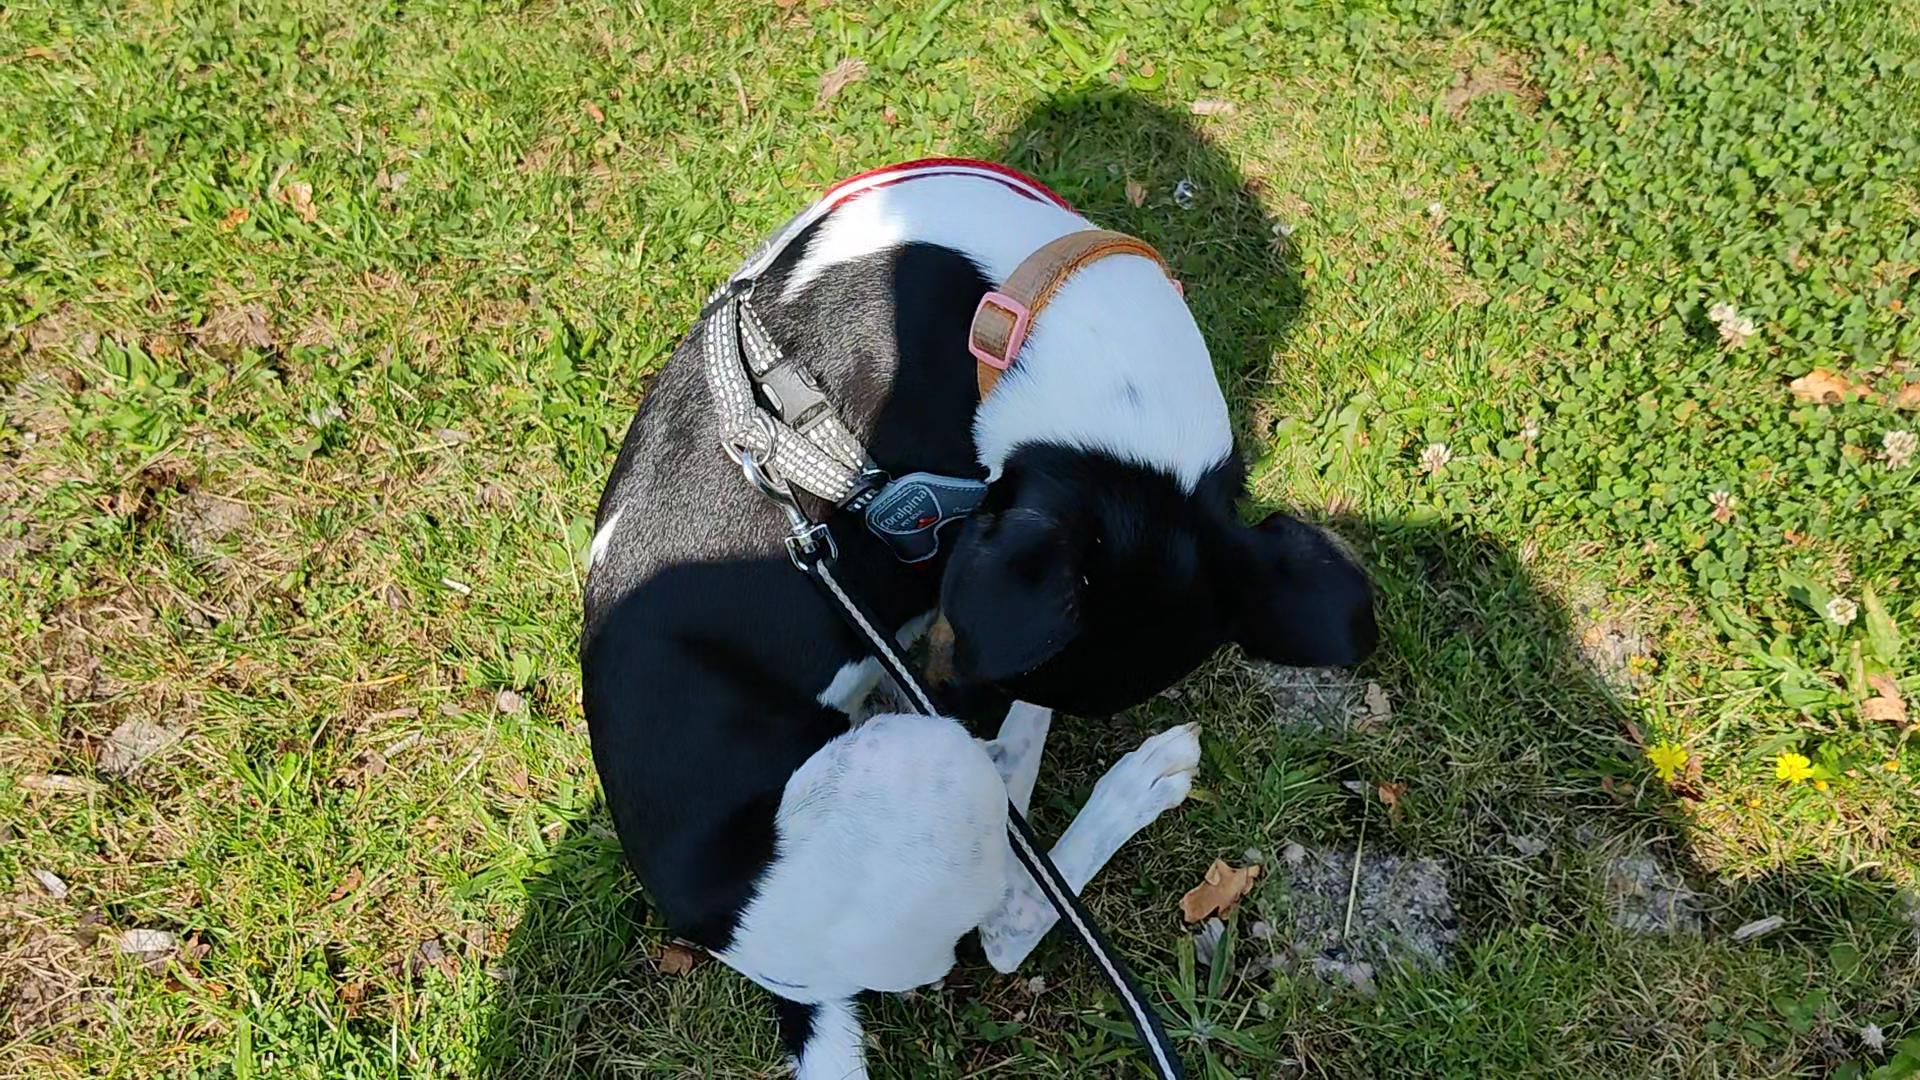Dog: (568, 150, 1382, 1079)
